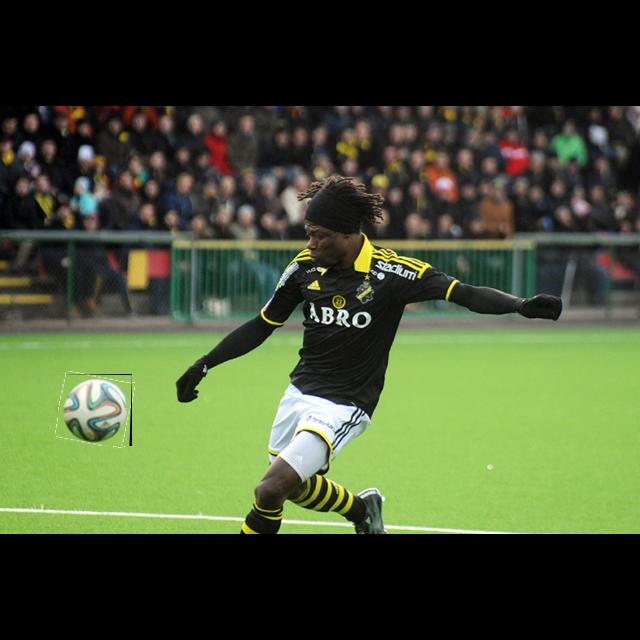Football: (58, 374, 132, 446)
